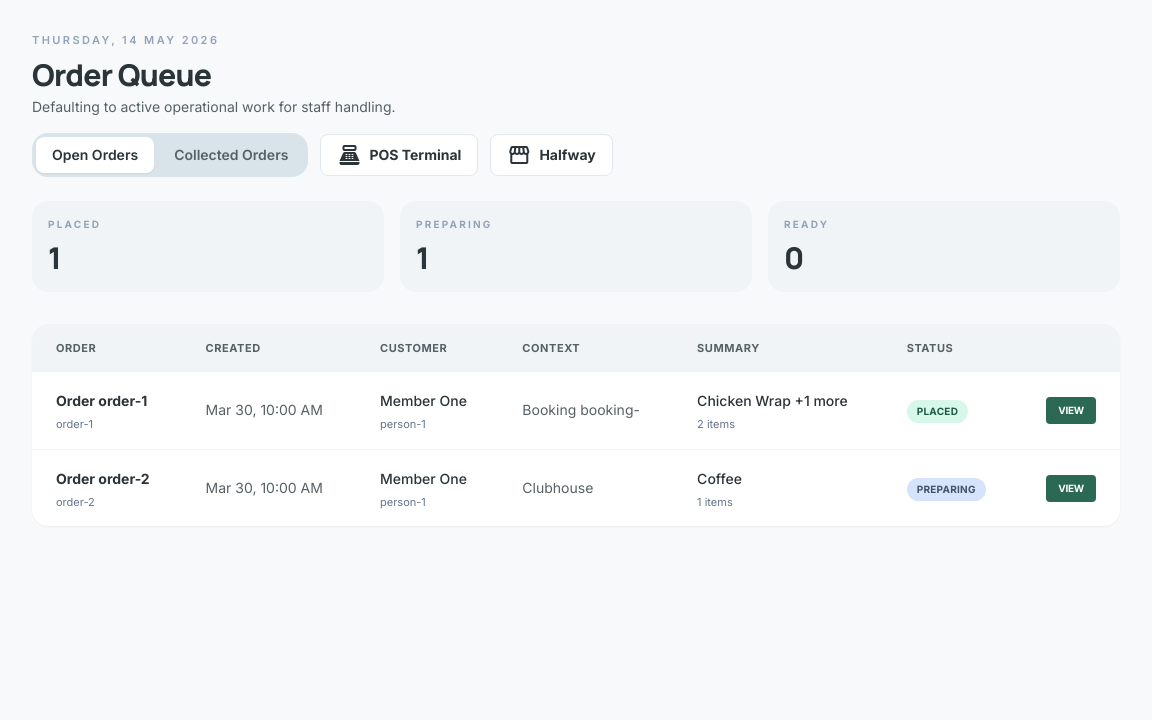
Test: AdminOrderQueuePage › keeps the drawer open when the backend blocks cancellation
Click the button with aria-label "open order order-1" at (1071, 411), box [1046,397,1096,424]
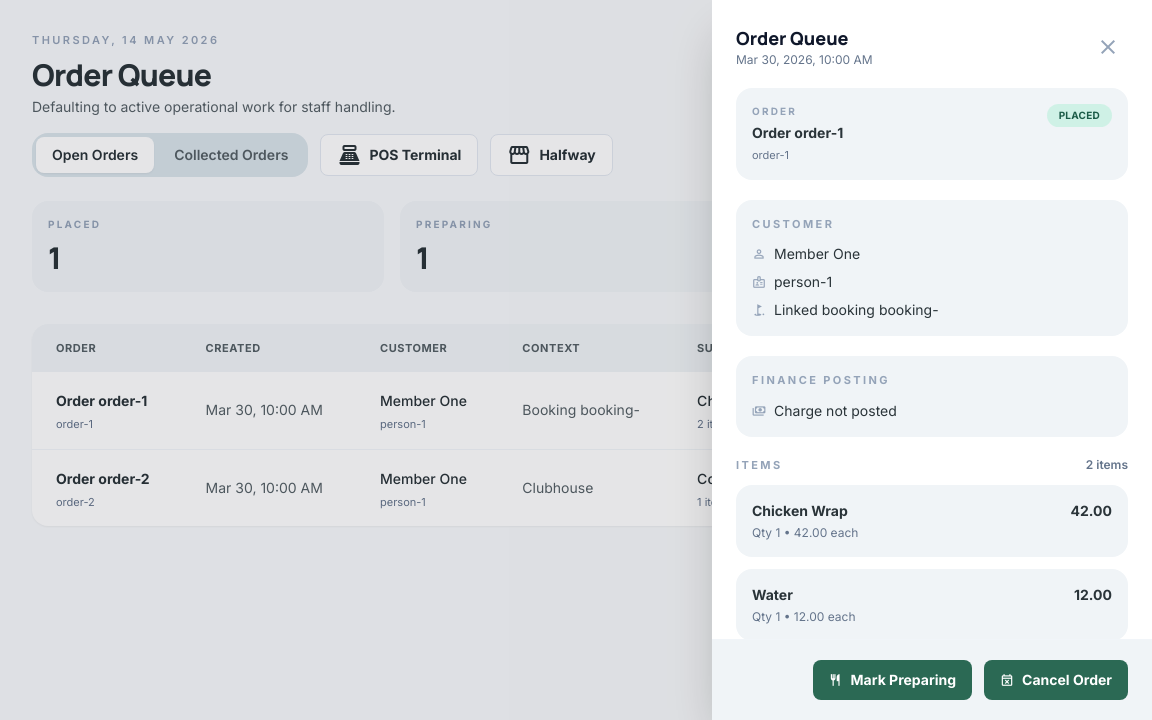
Click the button "Cancel Order" at (1056, 680), box [984,660,1128,700]
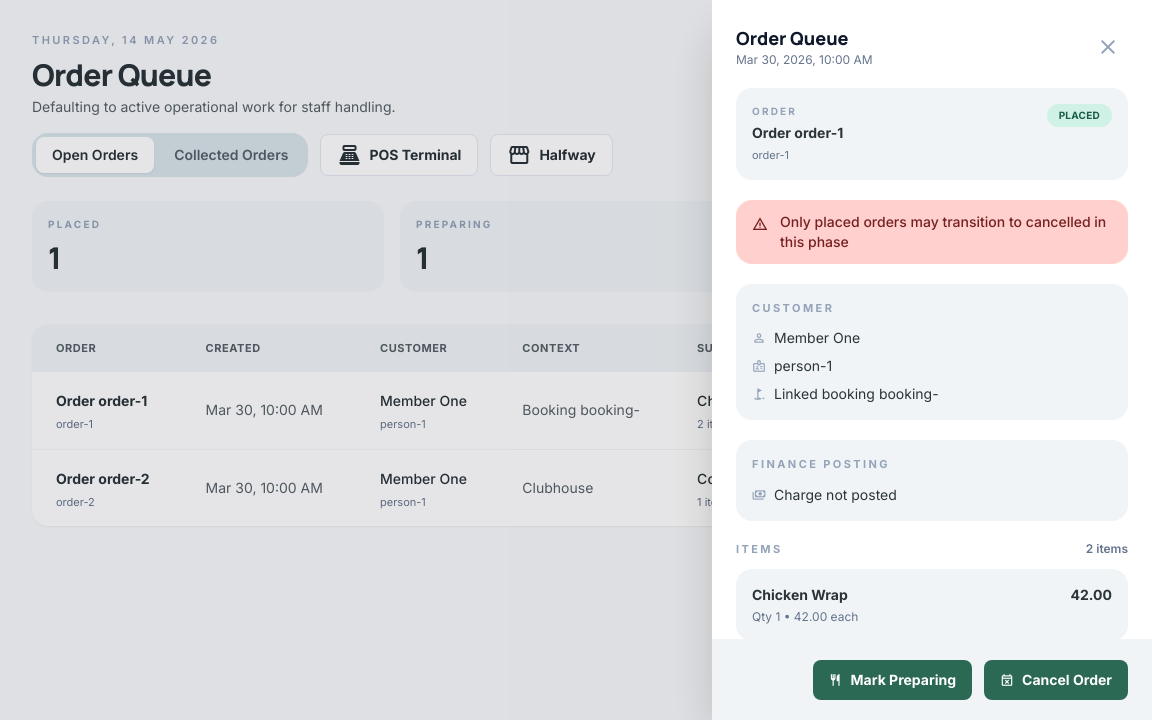
Now the heading "Order Queue" is shown, box [736,26,848,50]
Now the text "Only placed orders may transition to cancelled in this phase" is shown, box [780,212,1112,252]
